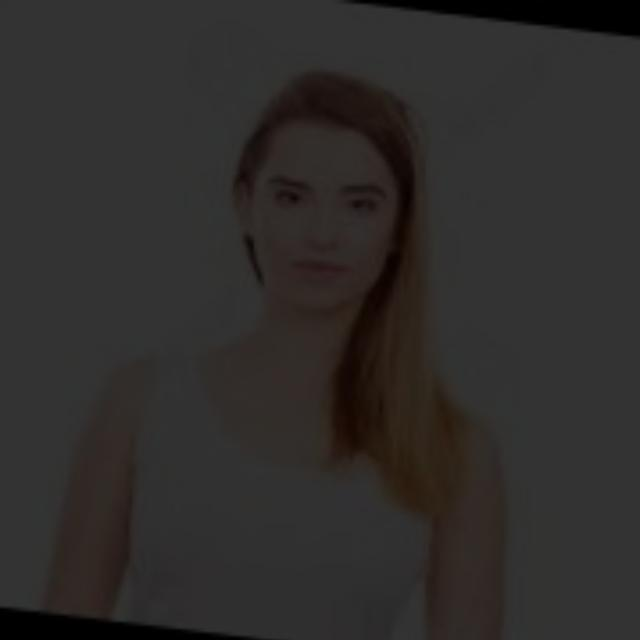Natural: (210, 100, 442, 324)
